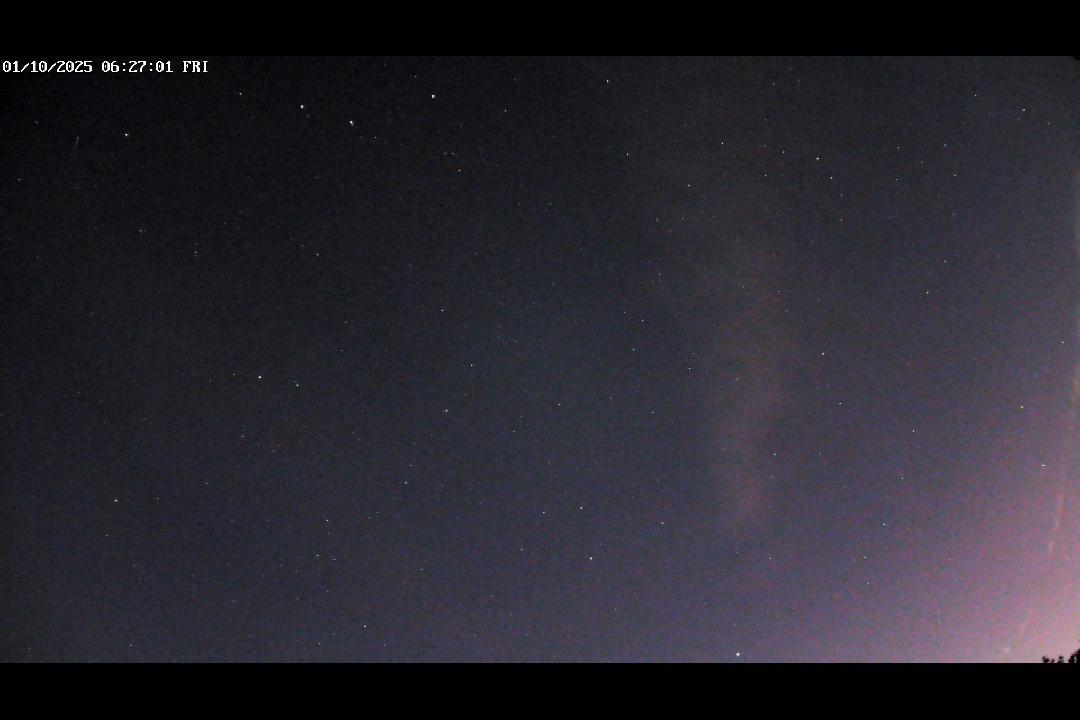Plane: (68, 132, 84, 161)
